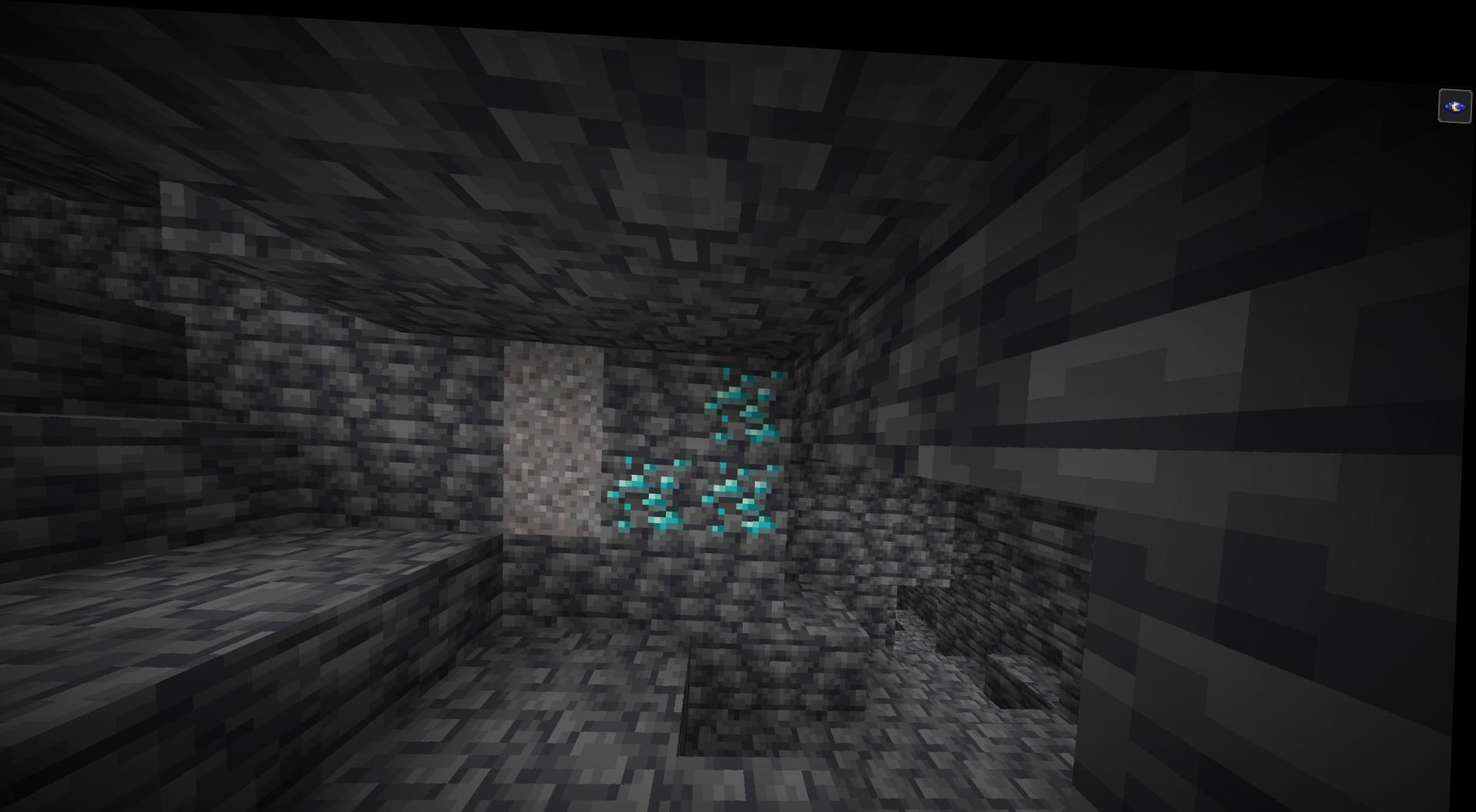diamond ore: (698, 441, 792, 537), (604, 443, 702, 533), (703, 353, 789, 438)
